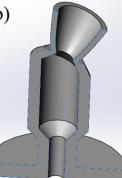thruster: (49, 0, 108, 63)
